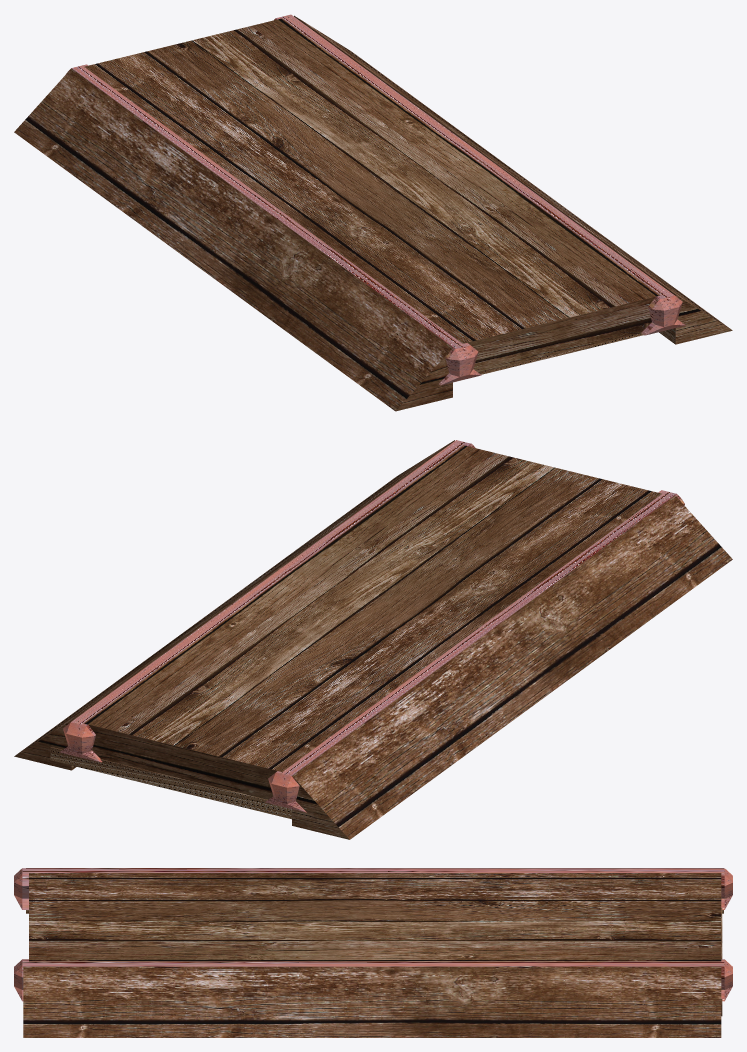
File: traintracks2.fbx
3 renders of one model, top to bottom at view 1: azimuth 30°, elevation 25°; view 2: azimuth 150°, elevation 25°; view 3: azimuth 270°, elevation 25°, orthographic. The views are drawn at different scales.
Visible parts, largest first — view 1: pCube16, pCube15, pCube1, pCube2, pCube17; view 2: pCube16, pCube15, pCube1, pCube2, pCube17, pCube13; view 3: pCube16, pCube17, pCube2, pCube1, pCube15.
Part boxes in pixels (x1=…): pCube16: x1=84, y1=18, x2=660, y2=372; pCube15: x1=14, y1=68, x2=452, y2=411; pCube1: x1=66, y1=64, x2=481, y2=385; pCube2: x1=274, y1=14, x2=685, y2=335; pCube17: x1=294, y1=15, x2=732, y2=344; pCube16: x1=83, y1=445, x2=661, y2=799; pCube15: x1=292, y1=495, x2=732, y2=839; pCube1: x1=265, y1=490, x2=684, y2=812; pCube2: x1=60, y1=440, x2=475, y2=762; pCube17: x1=14, y1=440, x2=454, y2=770; pCube13: x1=50, y1=747, x2=291, y2=819; pCube16: x1=29, y1=873, x2=721, y2=961; pCube17: x1=23, y1=966, x2=721, y2=1037; pCube2: x1=14, y1=959, x2=732, y2=1001; pCube1: x1=14, y1=868, x2=732, y2=909; pCube15: x1=26, y1=868, x2=723, y2=913.
Bounding box in the file's own units: 10.75 × 1.52 × 21.78.
Materials: 2 (2 with a texture image).
